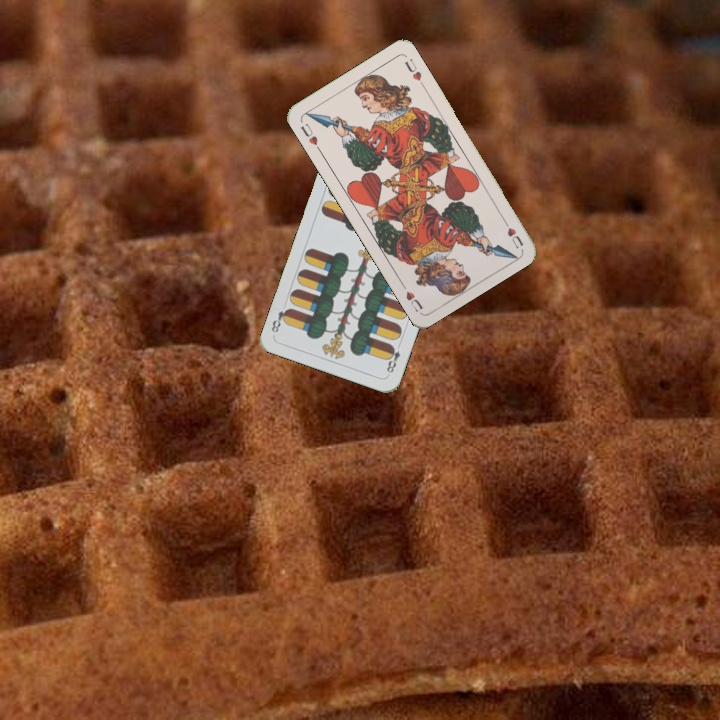E8: (382, 339, 404, 378)
HU: (498, 214, 526, 251), (296, 119, 323, 154)
